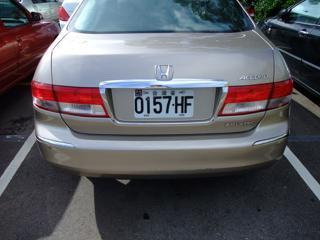plate: (133, 89, 196, 118)
